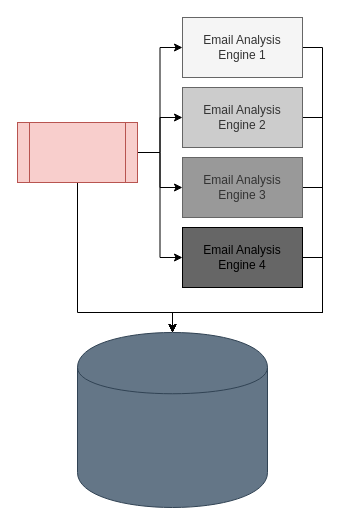
The diagram is 348 pixels wide and 525 high, and some of its shapes have lost their labels. Each missing label, with the centre of its shape:
"New Email" belongs at point (77, 152).
"TotalEmail's Database" belongs at point (172, 420).
